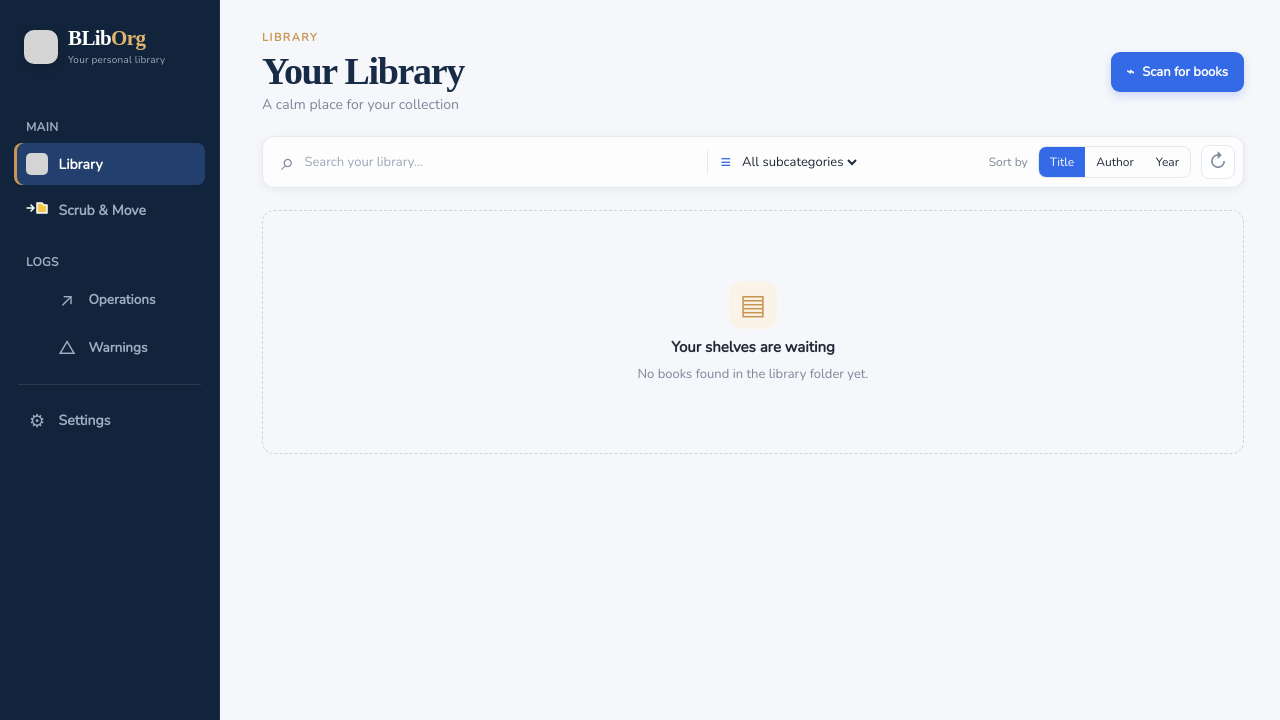
Test: App › switches to Scrub & Move and back to Library when their sidebar items are clicked
Expected: the text "No books found in the library folder yet." is shown, top-left (637, 365), bottom-right (868, 383)
Step 1. Click the button "Scrub & Move" → (110, 210), box top-left (14, 189), bottom-right (205, 230)
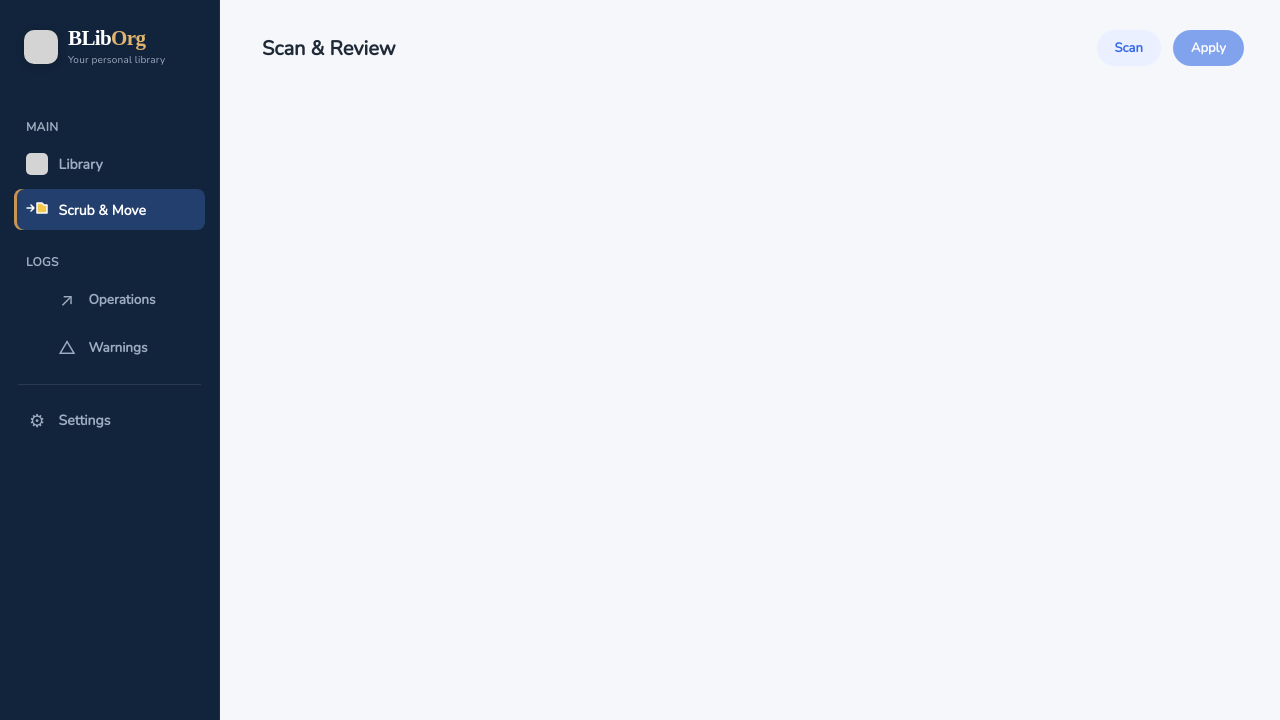
Expected: the button "Scan" is shown, top-left (1097, 30), bottom-right (1161, 66)
Step 2. Click the button "Library" → (110, 164), box top-left (14, 143), bottom-right (205, 185)
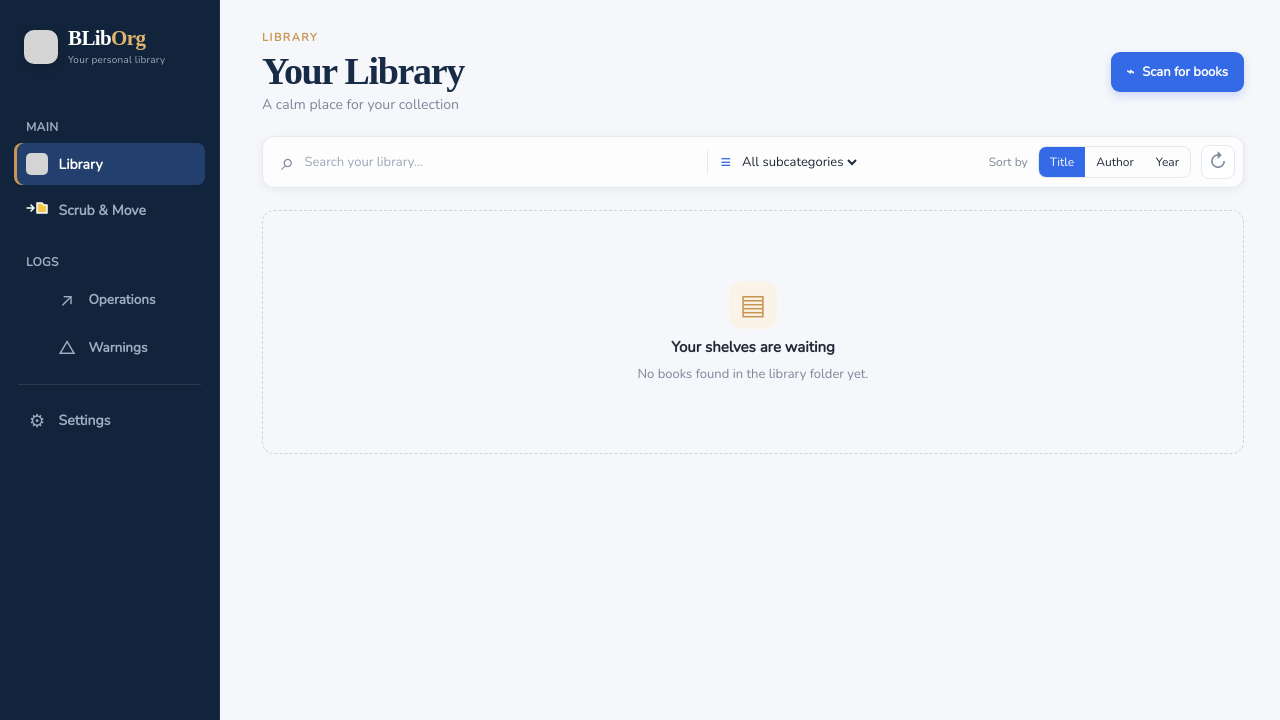
Expected: the text "No books found in the library folder yet." is shown, top-left (637, 365), bottom-right (868, 383)
